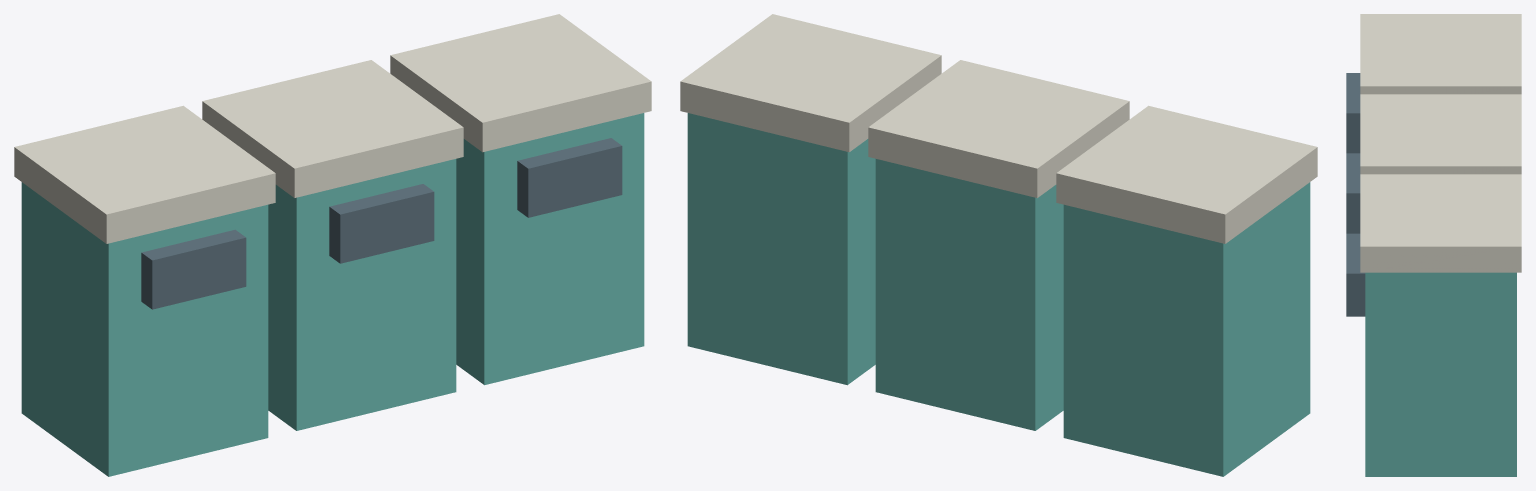
The model's file is voxel-city-districts-recycling-station-c0a409b9__24846.glb.
3 views of the same model, side by side, from view 1: azimuth 30°, elevation 25°; view 2: azimuth 150°, elevation 25°; view 3: azimuth 270°, elevation 25° (orthographic). The views are drawn at different scales.
Visible parts, largest first — view 1: recycling-station-accent, recycling-station-concrete, recycling-station-dark; view 2: recycling-station-accent, recycling-station-concrete; view 3: recycling-station-concrete, recycling-station-accent, recycling-station-dark.
Boxes of the visible parts, x1,y1,x2,y2 form: recycling-station-accent: (21,113,644,476); recycling-station-concrete: (14,14,651,243); recycling-station-dark: (141,138,622,309); recycling-station-accent: (687,113,1310,476); recycling-station-concrete: (680,14,1317,243); recycling-station-concrete: (1360,14,1521,272); recycling-station-accent: (1365,272,1516,476); recycling-station-dark: (1346,73,1365,316).
Bounding box in the file's own units: 2.9 × 1.35 × 0.9251.
